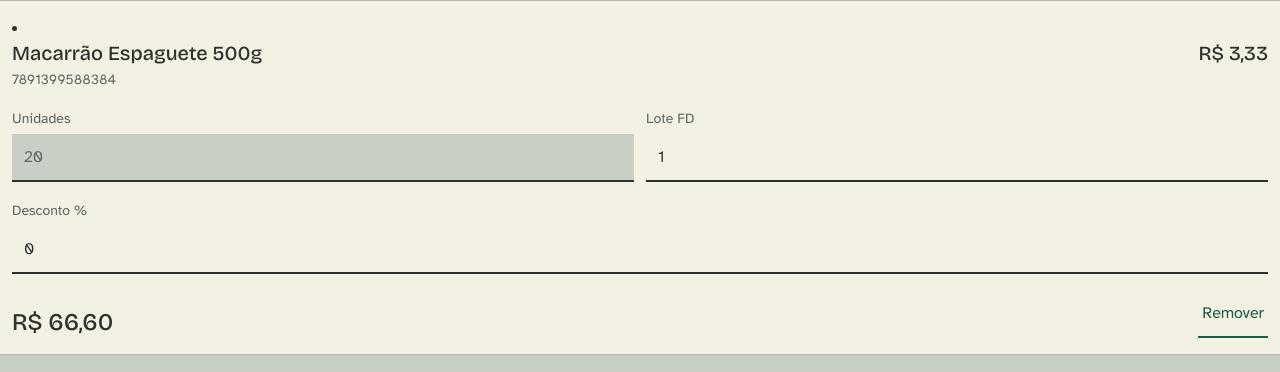
Test case: CartLine › P006: Unidades somente leitura, rótulo Lote FD e Lote 2 preenche 40 un
The image size is (1280, 372).
Replace the text in the field with test id "cart-lots" with "2". click: (957, 158)
box: left=646, top=134, right=1268, bottom=182
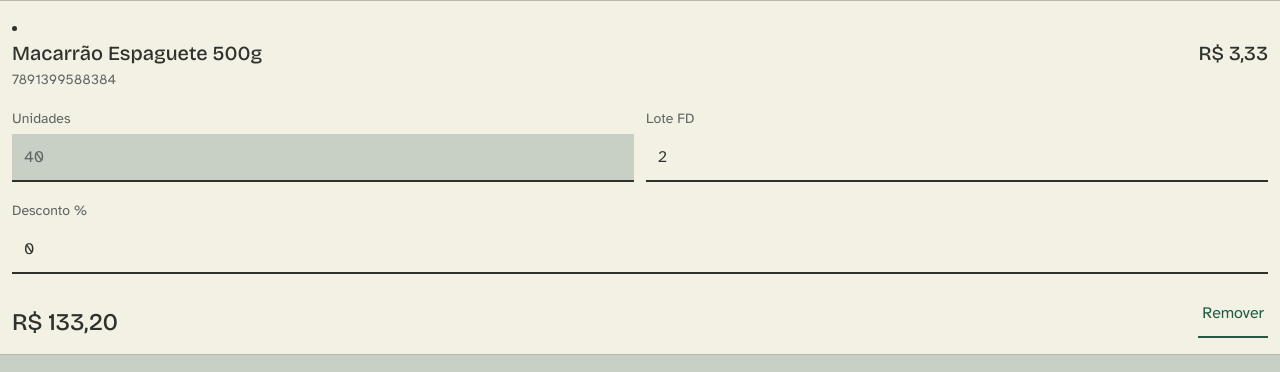
Check: the field with test id "cart-units" holds "40", box left=12, top=134, right=634, bottom=182
